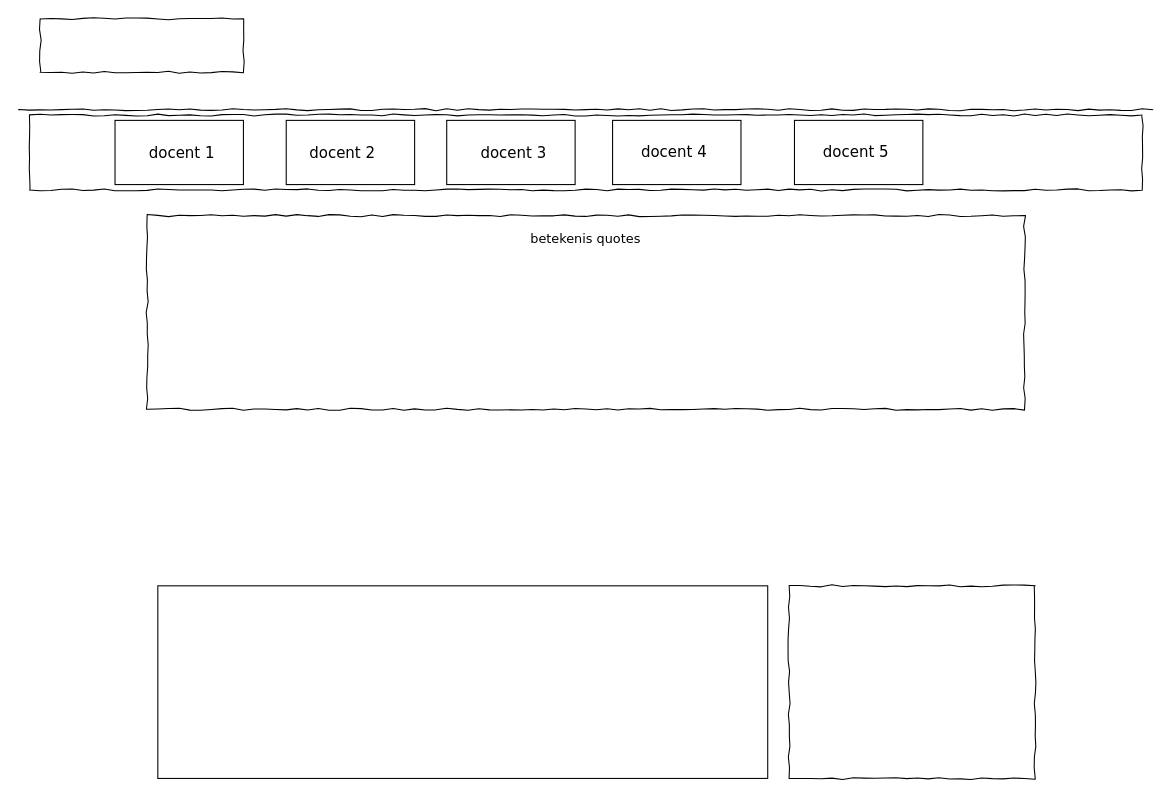
This 1172x797 diagram has some shape labels left out. Here are the shapes that lost their labels. From the top down, the box of each, then its label:
(39, 18, 243, 72): LOGO
(157, 585, 768, 778): fote weredie
(788, 585, 1035, 778): disclaimer
